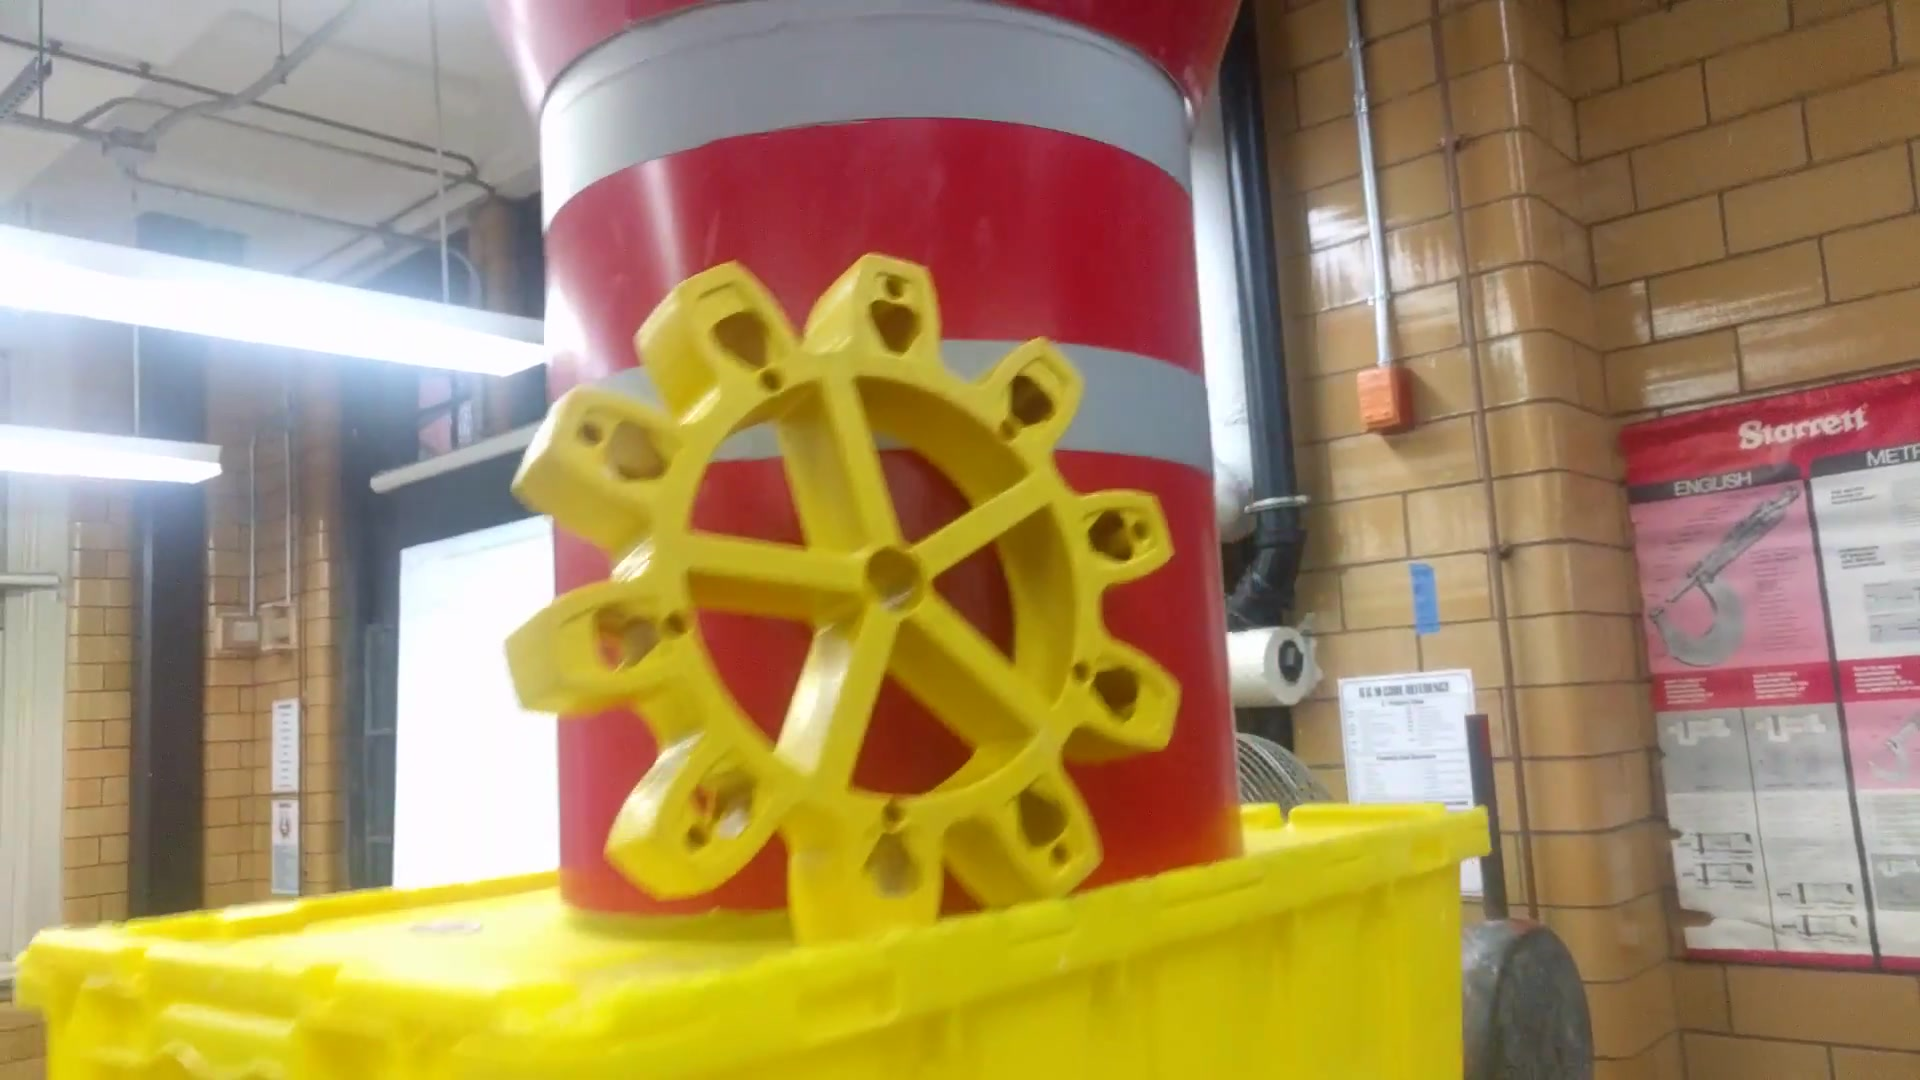gear: (505, 251, 1193, 947)
